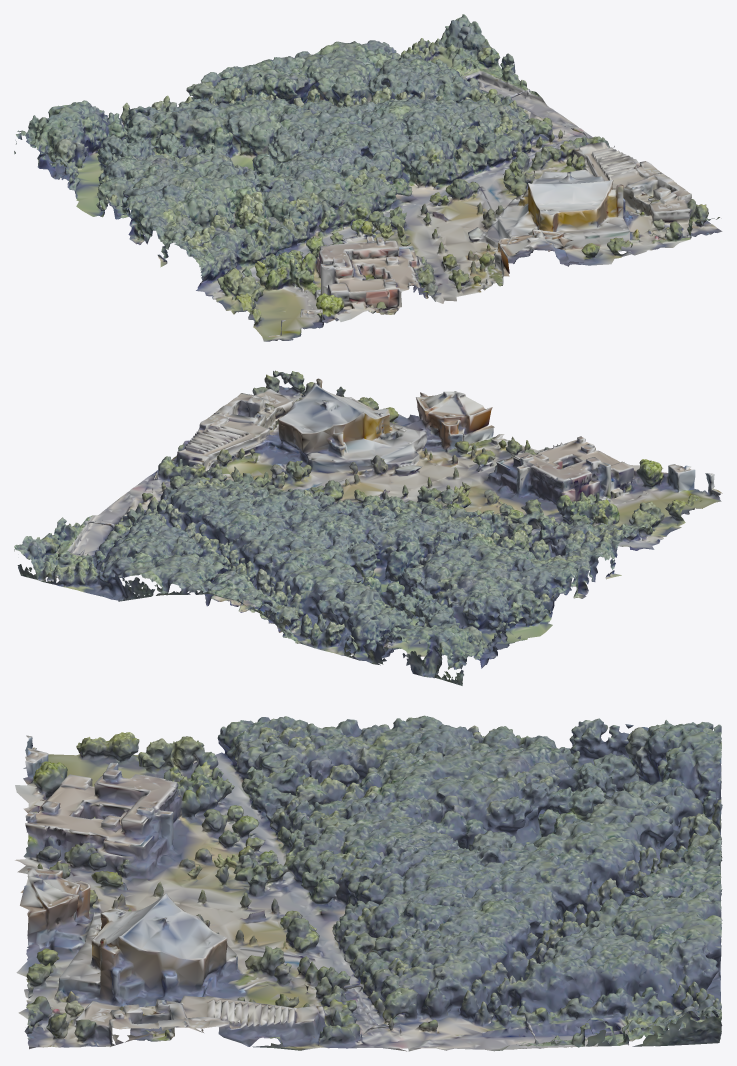
File: surface-detail-3890_58189.glb
The picture shows the model from 3 angles, top to bottom: view 1: azimuth 30°, elevation 25°; view 2: azimuth 150°, elevation 25°; view 3: azimuth 270°, elevation 25°; orthographic projection. The views are drawn at different scales.
Visible parts, largest first — view 1: world; view 2: world; view 3: world.
Part boxes in pixels (left/top/right/bottom): world: left=14, top=14, right=722, bottom=341; world: left=14, top=370, right=722, bottom=685; world: left=15, top=715, right=722, bottom=1051.
Bounding box in the file's own units: 368 × 42.52 × 369.
